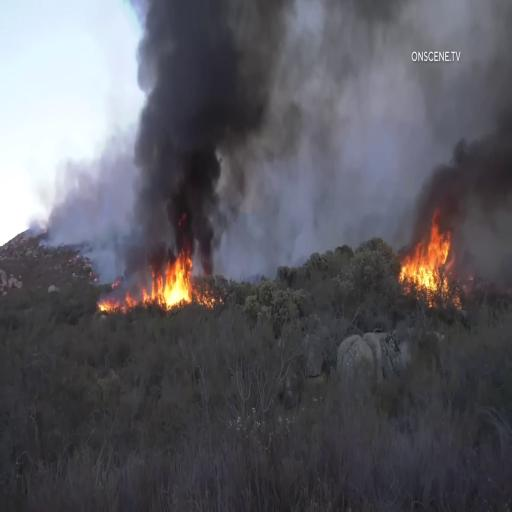fire: (124, 254, 199, 317), (412, 229, 459, 291)
smoke: (130, 0, 221, 250), (411, 92, 512, 230)
